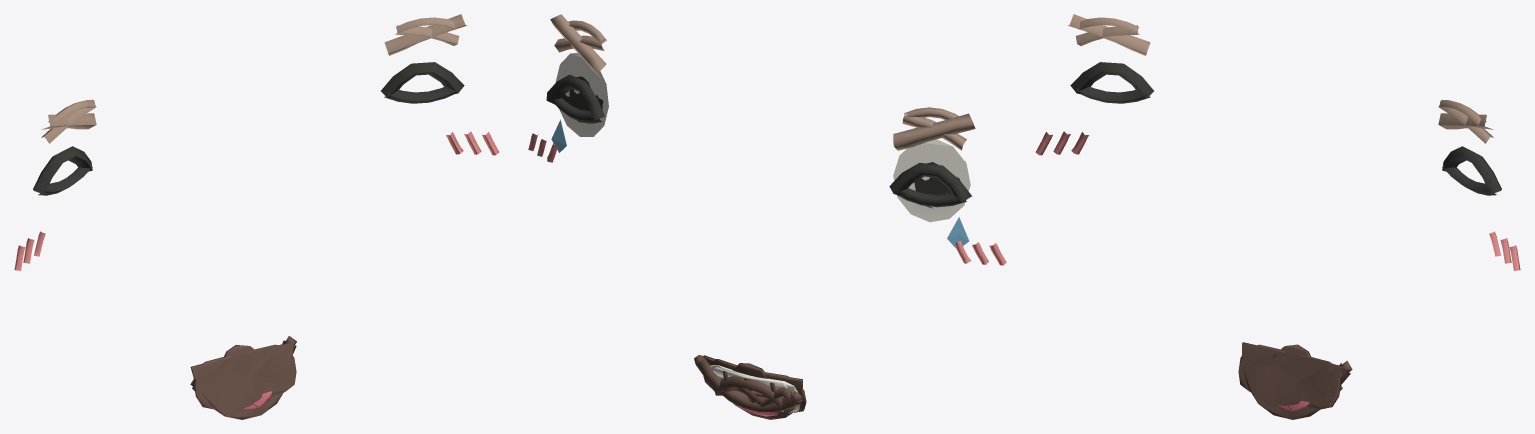
Rendered from npc_face_noeul_granny.glb.
3 views of the same model, side by side, from view 1: azimuth 30°, elevation 25°; view 2: azimuth 150°, elevation 25°; view 3: azimuth 330°, elevation 25° (orthographic).
Parts seen in each view (by area): view 1: mouth_x_laugh, mouth_x_grit, eyes_x_happy, eyes_x_angry, eyes_x_blink, eyes_x_shy, eyes_x_sad, eyes_x_surprised, mouth_x_o; view 2: eyes_x_surprised, eyes_x_angry, eyes_x_happy, eyes_x_sad, eyes_x_blink, mouth_x_grin, mouth_x_laugh, eyes_x_shy, mouth_x_grit, mouth_x_frown, mouth_x_wavy; view 3: mouth_x_laugh, mouth_x_grit, eyes_x_happy, eyes_x_angry, eyes_x_blink, eyes_x_shy, eyes_x_sad, eyes_x_surprised, mouth_x_o.
Part boxes in pixels (left/top/right/bottom): mouth_x_laugh: left=190, top=342, right=292, bottom=419; mouth_x_grit: left=193, top=344, right=296, bottom=409; eyes_x_happy: left=33, top=62, right=464, bottom=194; eyes_x_angry: left=42, top=14, right=467, bottom=129; eyes_x_blink: left=38, top=86, right=458, bottom=195; eyes_x_shy: left=14, top=131, right=499, bottom=270; eyes_x_sad: left=41, top=25, right=459, bottom=143; eyes_x_surprised: left=48, top=17, right=456, bottom=126; mouth_x_o: left=222, top=345, right=263, bottom=401; eyes_x_surprised: left=555, top=20, right=970, bottom=222; eyes_x_angry: left=550, top=14, right=975, bottom=161; eyes_x_happy: left=546, top=74, right=971, bottom=202; eyes_x_sad: left=551, top=35, right=969, bottom=248; eyes_x_blink: left=551, top=98, right=966, bottom=207; mouth_x_grin: left=694, top=355, right=802, bottom=411; mouth_x_laugh: left=703, top=355, right=802, bottom=419; eyes_x_shy: left=528, top=96, right=1006, bottom=265; mouth_x_grit: left=710, top=359, right=806, bottom=412; mouth_x_frown: left=715, top=376, right=795, bottom=412; mouth_x_wavy: left=703, top=376, right=802, bottom=406; mouth_x_laugh: left=1242, top=342, right=1342, bottom=419; mouth_x_grit: left=1238, top=344, right=1341, bottom=409; eyes_x_happy: left=1070, top=62, right=1501, bottom=194; eyes_x_angry: left=1067, top=14, right=1492, bottom=129; eyes_x_blink: left=1076, top=86, right=1496, bottom=195; eyes_x_shy: left=1035, top=131, right=1520, bottom=270; eyes_x_sad: left=1075, top=25, right=1493, bottom=143; eyes_x_surprised: left=1078, top=17, right=1486, bottom=126; mouth_x_o: left=1272, top=344, right=1310, bottom=404.
Bounding box in the file's own units: 0.492 × 0.3471 × 0.0448.
